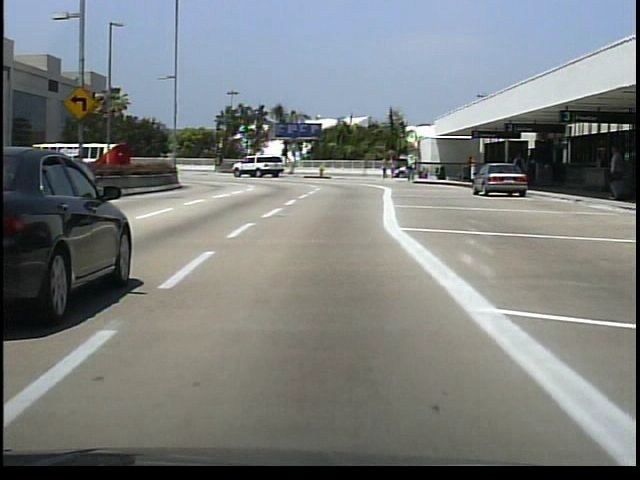person: (604, 138, 627, 203), (512, 149, 530, 190), (407, 152, 418, 184), (464, 155, 476, 184), (381, 155, 390, 180), (389, 156, 397, 180)
